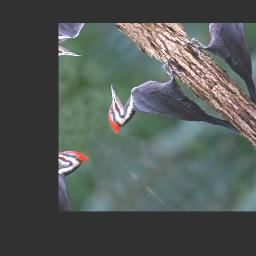Woodpecker: (88, 42, 254, 197)
